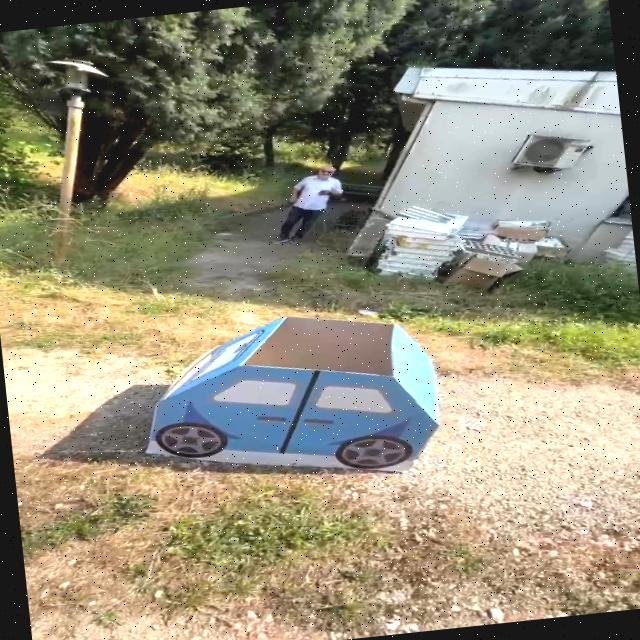blue_car: (109, 280, 470, 527)
